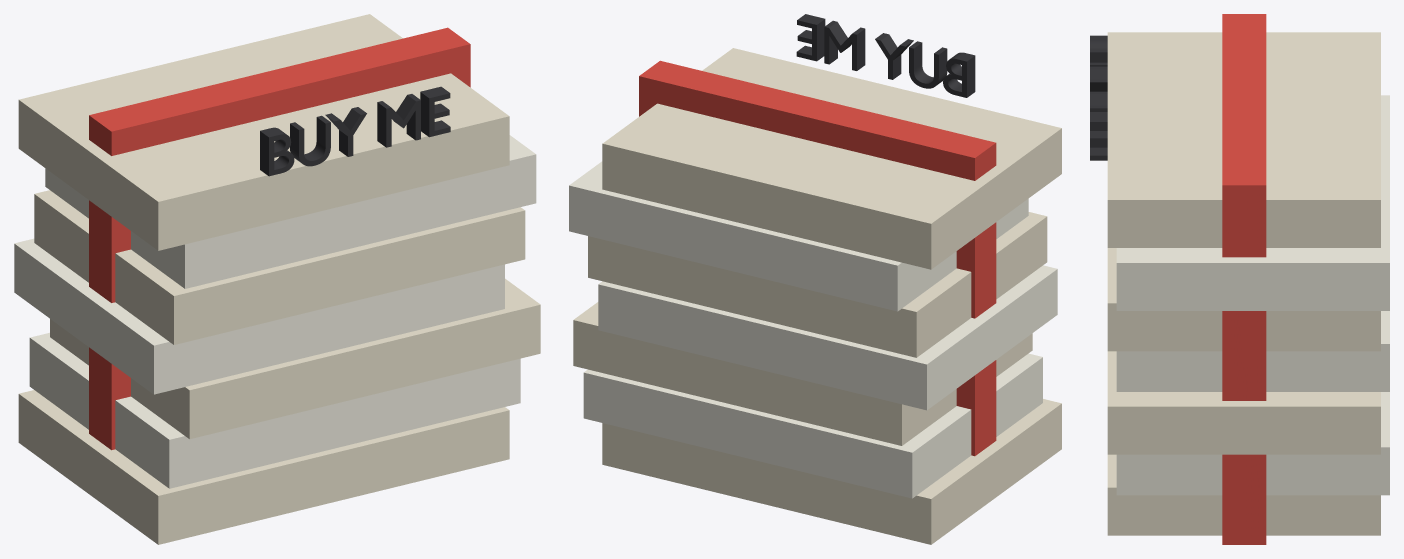
File: PR_HandoutStack.glb
3 renders of one model, left to right at view 1: azimuth 30°, elevation 25°; view 2: azimuth 150°, elevation 25°; view 3: azimuth 270°, elevation 25°, orthographic. The views are drawn at different scales.
Visible parts, largest first — view 1: PR_HandoutStack; view 2: PR_HandoutStack; view 3: PR_HandoutStack.
Boxes of the visible parts, x1=… form: PR_HandoutStack: x1=14, y1=14, x2=540, y2=544; PR_HandoutStack: x1=569, y1=14, x2=1061, y2=544; PR_HandoutStack: x1=1090, y1=14, x2=1389, y2=544.
Bounding box in the file's own units: 0.98 × 0.9535 × 0.68.
